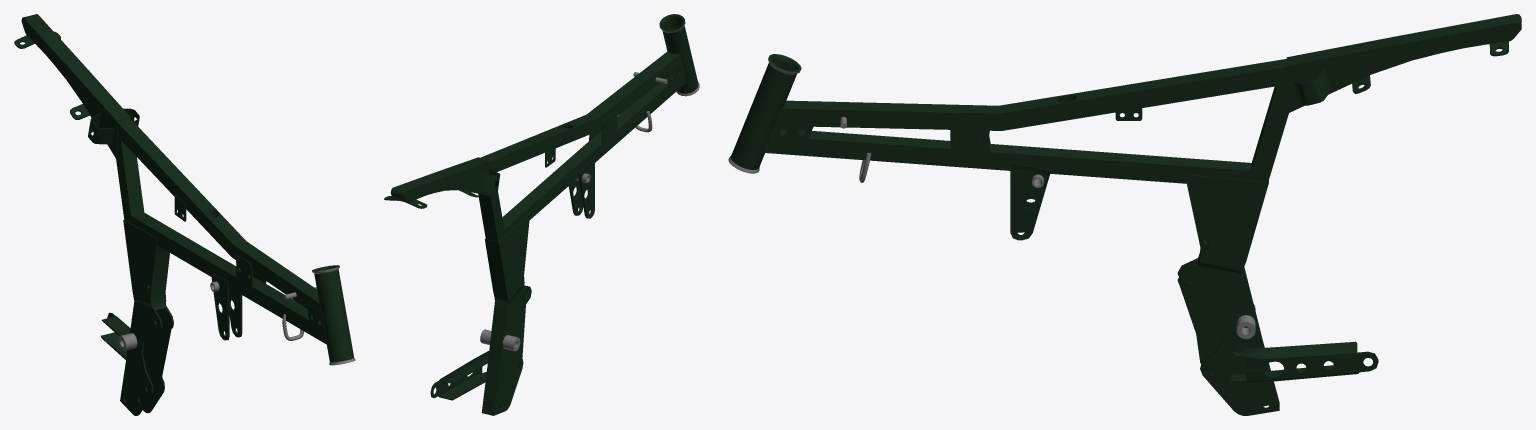
File: KarpachFrame.fbx
3 views of the same model, side by side, from view 1: azimuth 30°, elevation 25°; view 2: azimuth 150°, elevation 25°; view 3: azimuth 270°, elevation 25° (orthographic). The views are drawn at different scales.
Parts seen in each view (by area): view 1: Cube.014; view 2: Cube.014; view 3: Cube.014.
Part boxes in pixels (bbox=[...]): Cube.014: bbox=[14, 14, 355, 415]; Cube.014: bbox=[384, 14, 699, 415]; Cube.014: bbox=[728, 14, 1521, 415].
Bounding box in the file's own units: 38.3 × 261 × 477.
